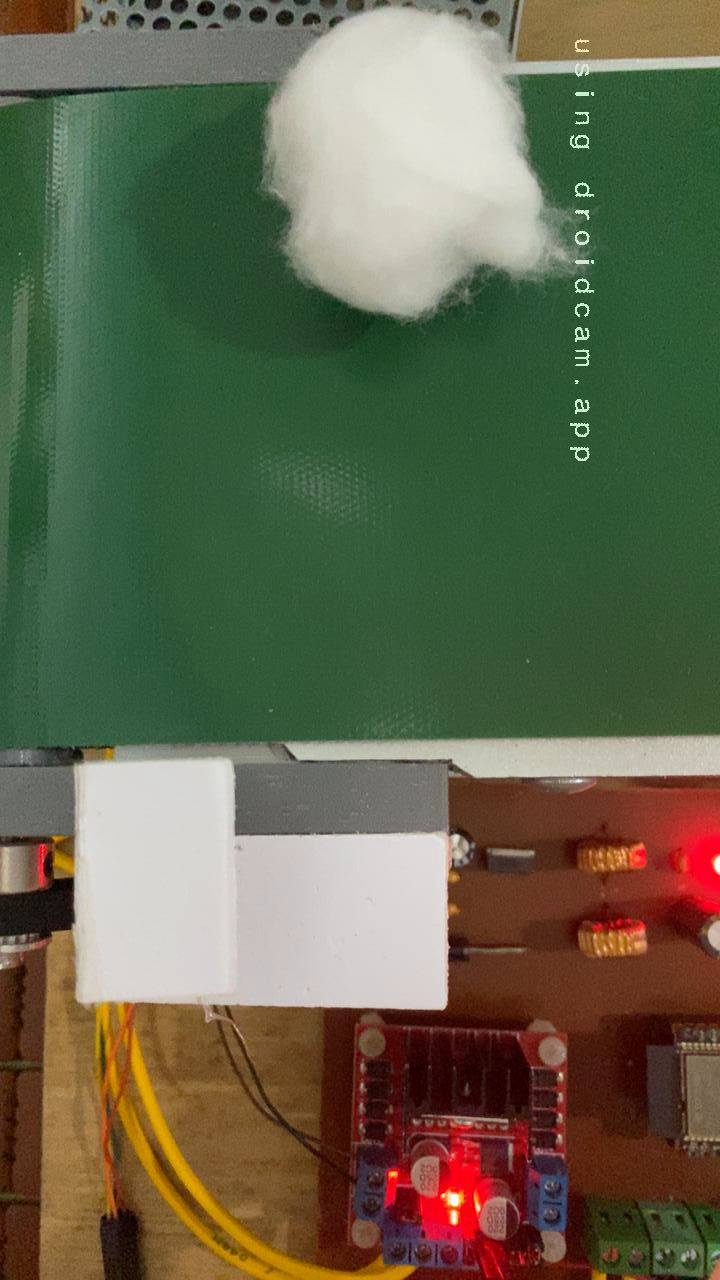cotton: (263, 82, 578, 325)
